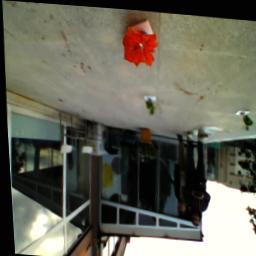herb: (241, 111, 253, 130), (144, 98, 156, 115)
wild: (121, 22, 160, 70)
